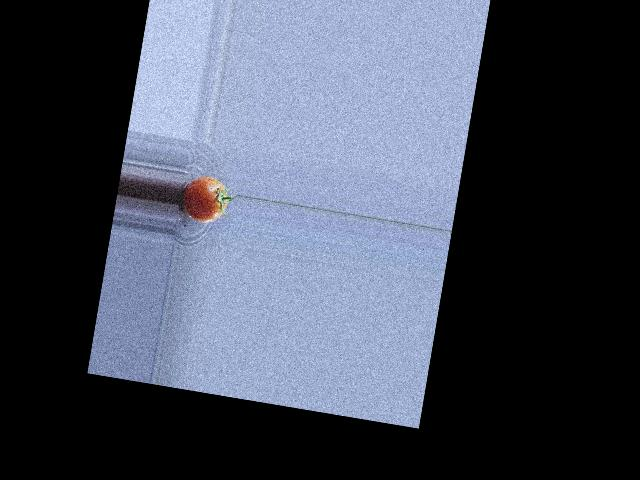tomato: (179, 173, 230, 225)
